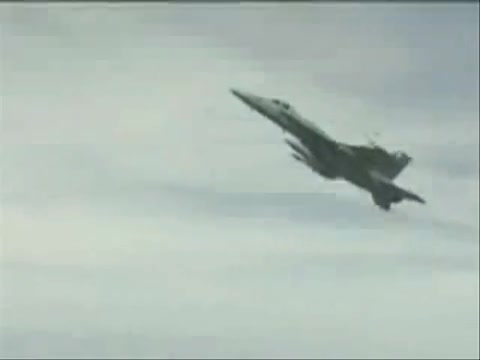aeroplane: (229, 84, 426, 214)
